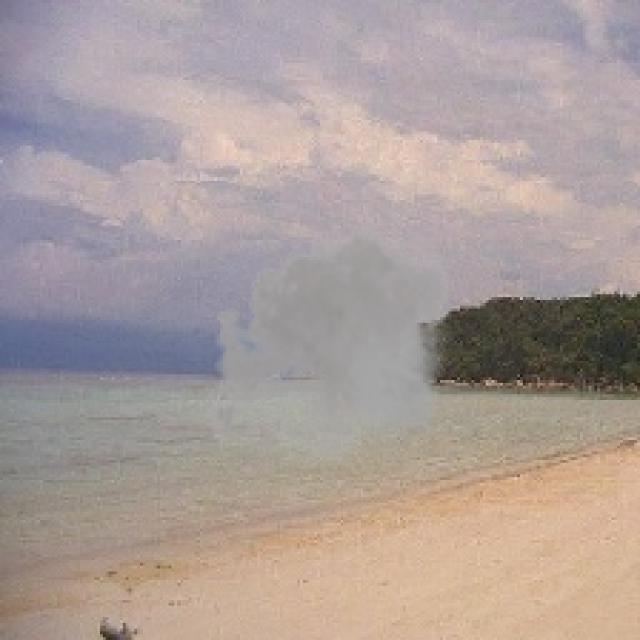Smoke: (200, 214, 460, 477)
